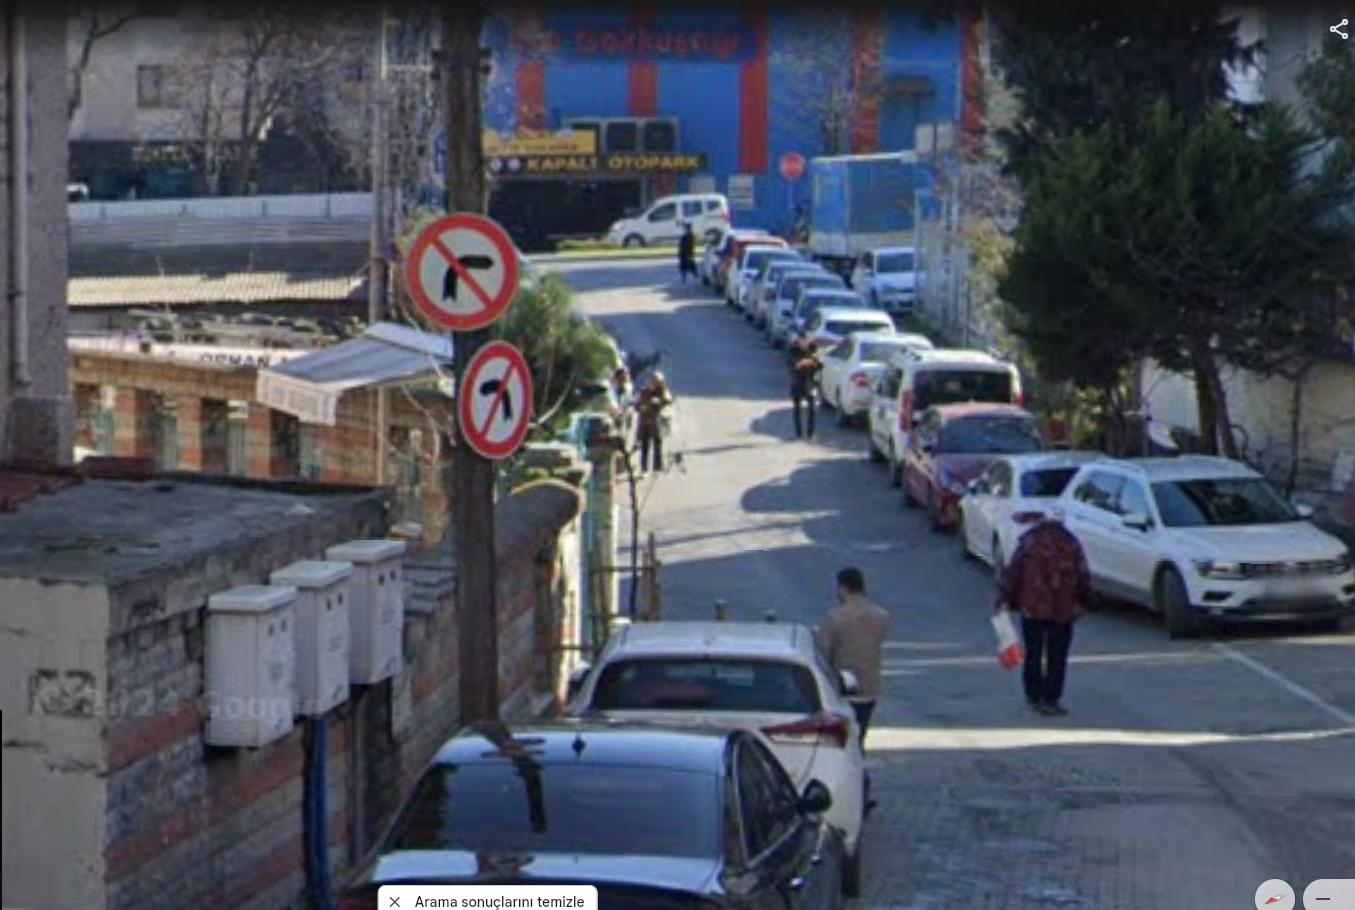leftturnsareforbidden: (452, 334, 546, 466)
rightturnsareforbidden: (402, 207, 524, 329)
